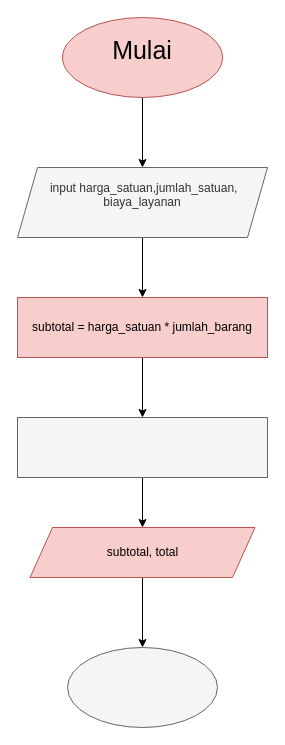
Image size: 285x745. Some labels were removed from this diagram. Each missing label, with the centre of its shape:
Selesai: point (142, 687)
total = subtotal + biaya_layanan: point (142, 447)
